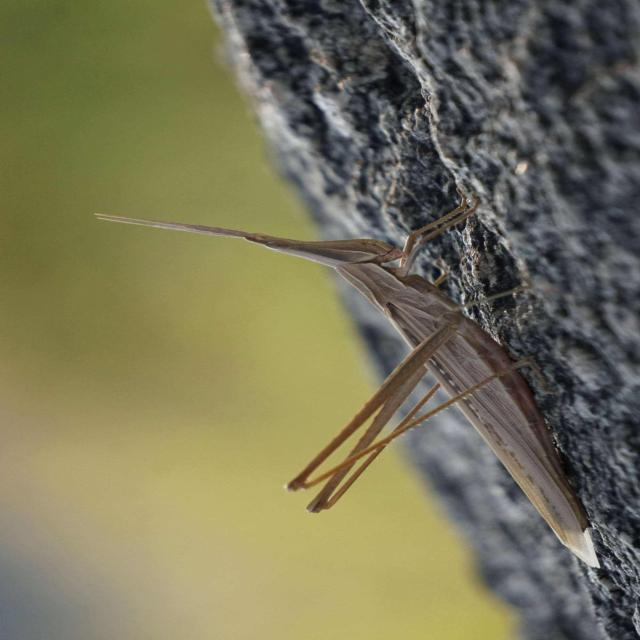ZhaMeng: (48, 180, 630, 588)
